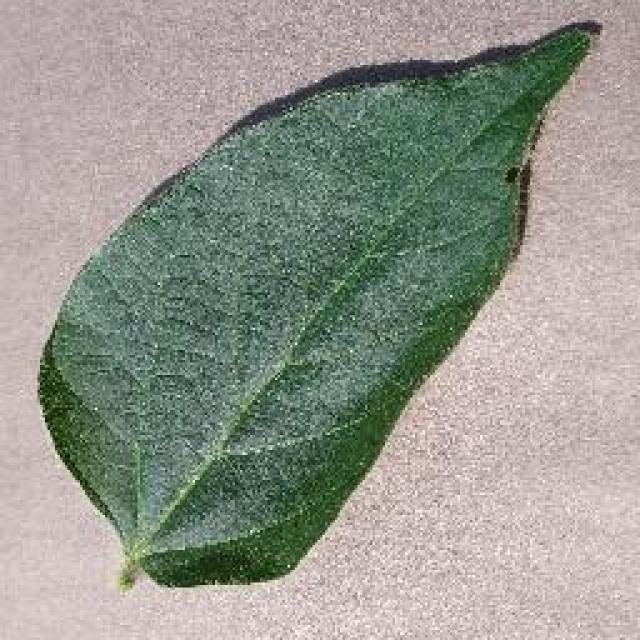Soy_healthy: (94, 91, 524, 499)
